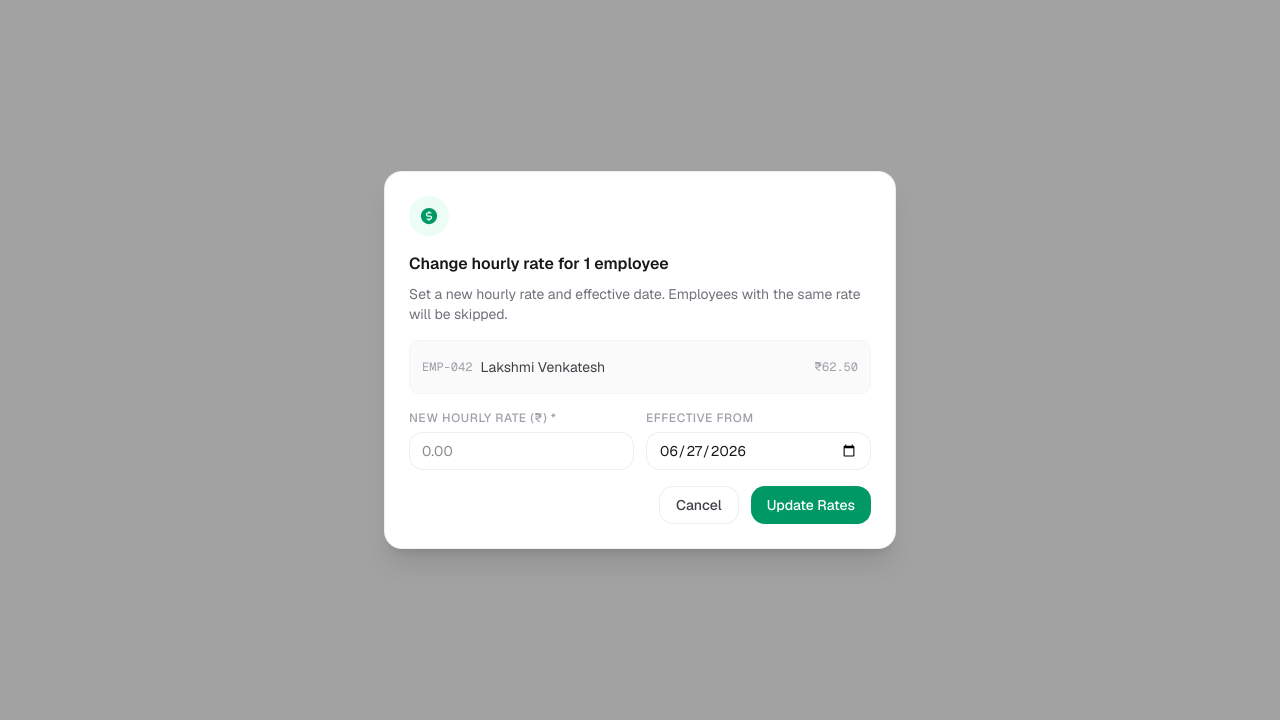
BulkRateDialog — validation › shows validation error when rate is zero
Type "0" into the number field with placeholder "0.00" at (522, 451), box [409,432,634,470]
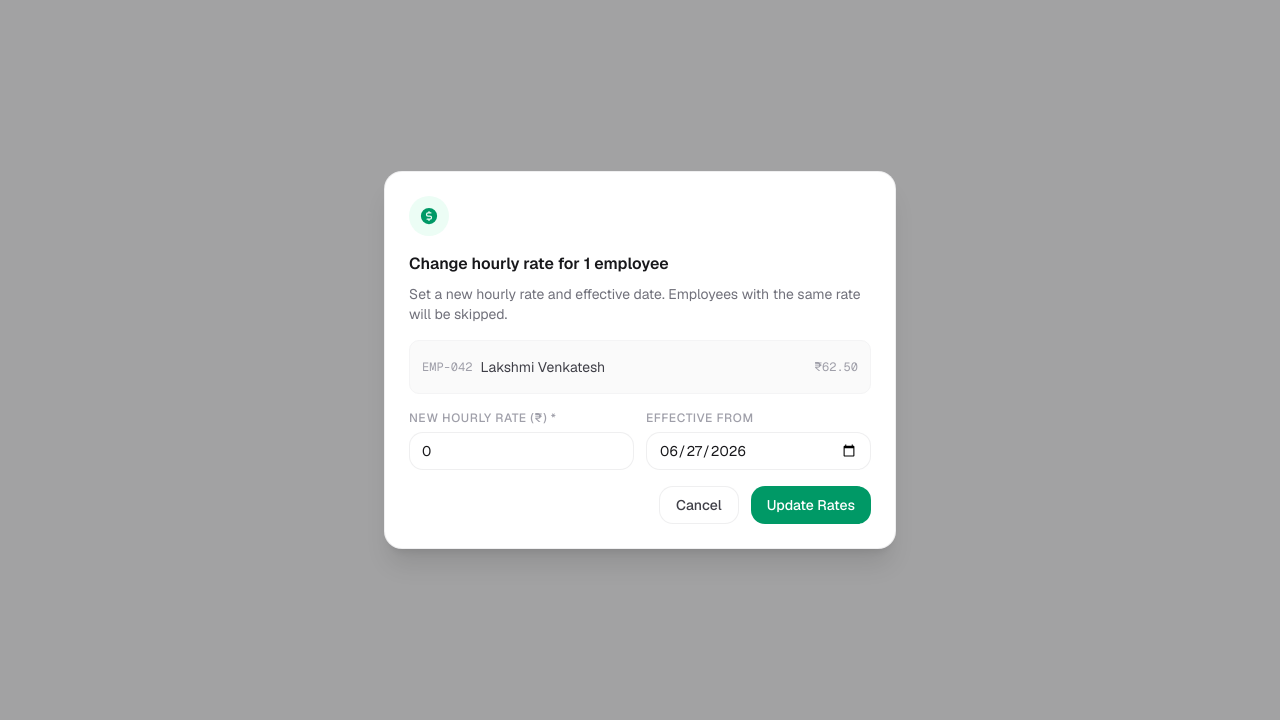
Click the button "Update Rates" at (811, 505), box [751,486,871,524]
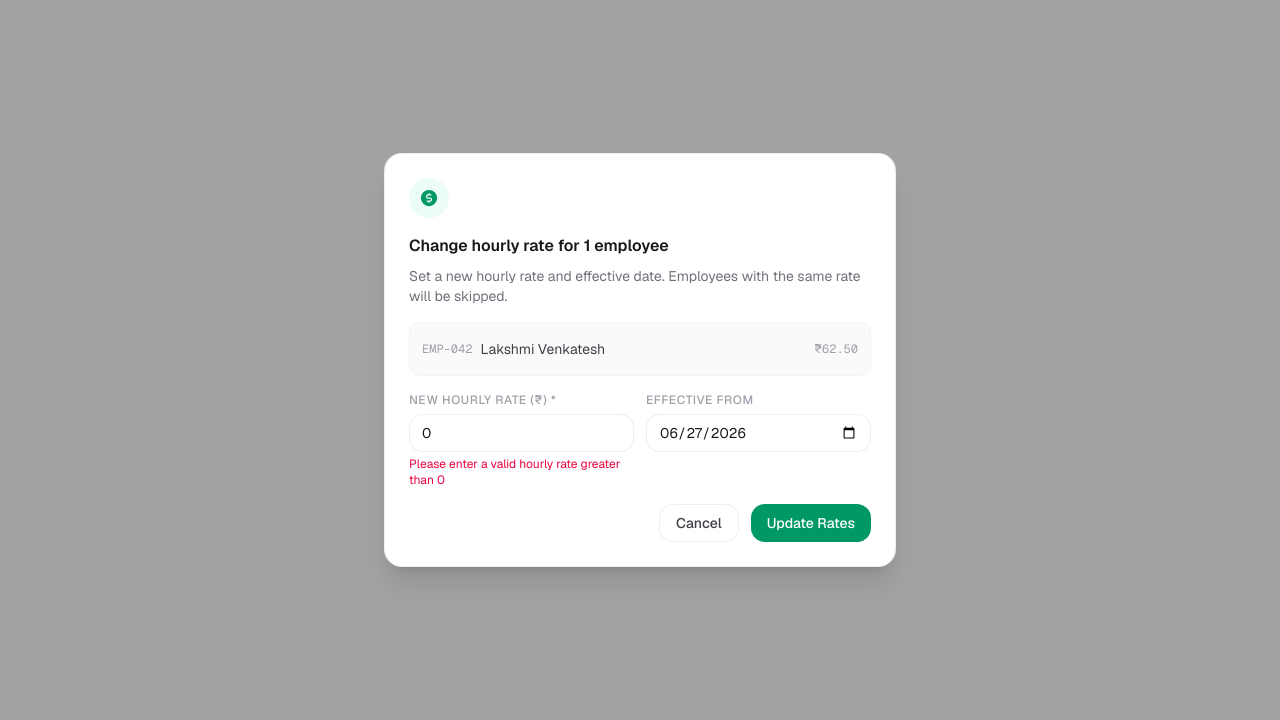
expect the text "Please enter a valid hourly rate greater than 0" is shown: met, box [409,456,634,488]
